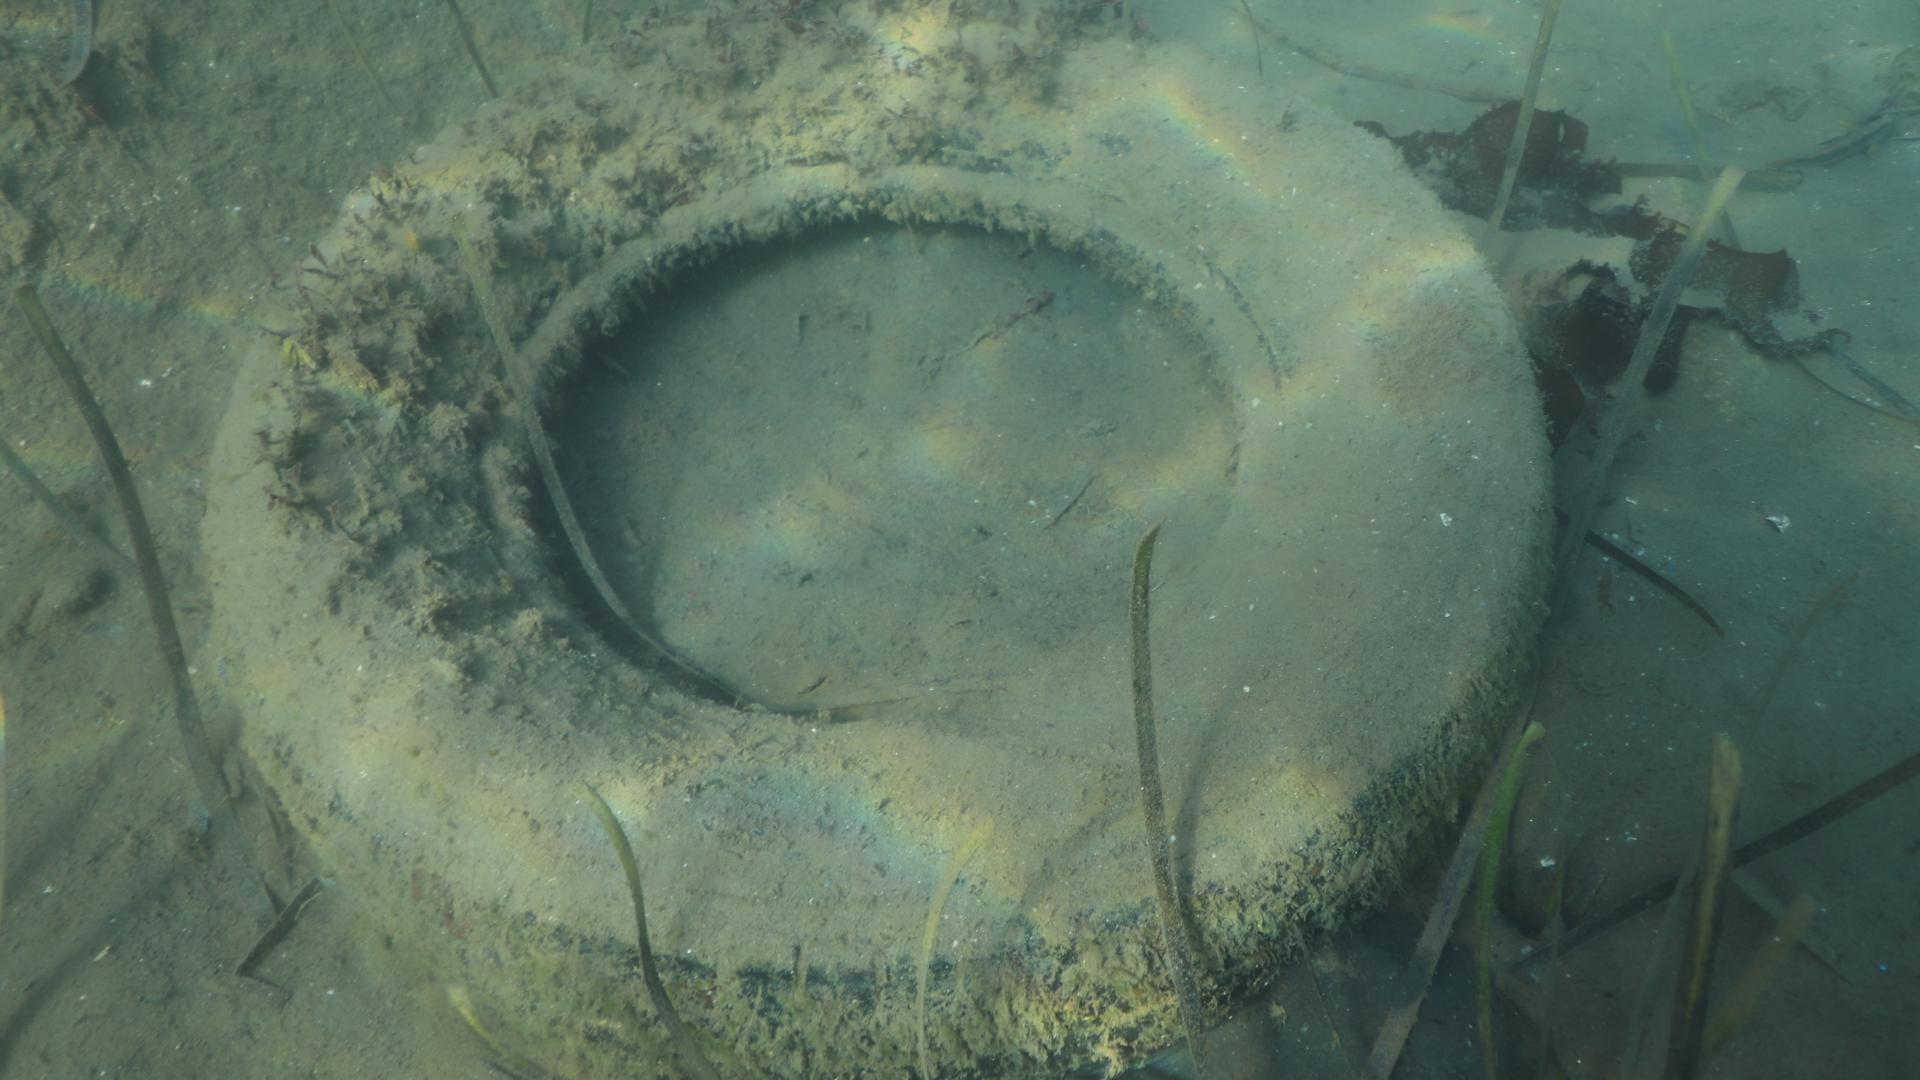tire: (199, 0, 1551, 1080)
